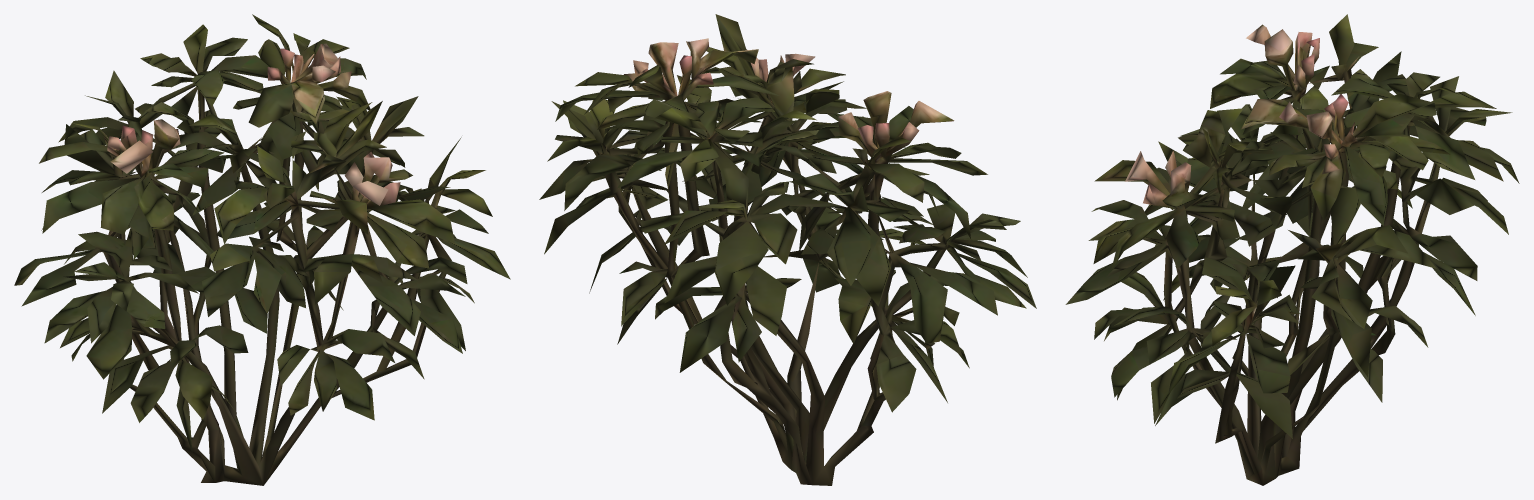
File: camellia-shrub.glb
3 views of the same model, side by side, from view 1: azimuth 30°, elevation 25°; view 2: azimuth 150°, elevation 25°; view 3: azimuth 270°, elevation 25° (orthographic). The views are drawn at different scales.
Visible parts, largest first — view 1: tripo_node_41c3e2dd-2d41-49bc-8430-d264fd984300; view 2: tripo_node_41c3e2dd-2d41-49bc-8430-d264fd984300; view 3: tripo_node_41c3e2dd-2d41-49bc-8430-d264fd984300.
Part boxes in pixels (x1,y1,x2,y2): tripo_node_41c3e2dd-2d41-49bc-8430-d264fd984300: [14, 14, 510, 485]; tripo_node_41c3e2dd-2d41-49bc-8430-d264fd984300: [539, 14, 1036, 485]; tripo_node_41c3e2dd-2d41-49bc-8430-d264fd984300: [1065, 14, 1519, 485].
Bounding box in the file's own units: 0.9747 × 0.8513 × 0.8336.
1 material, 1 textured.
